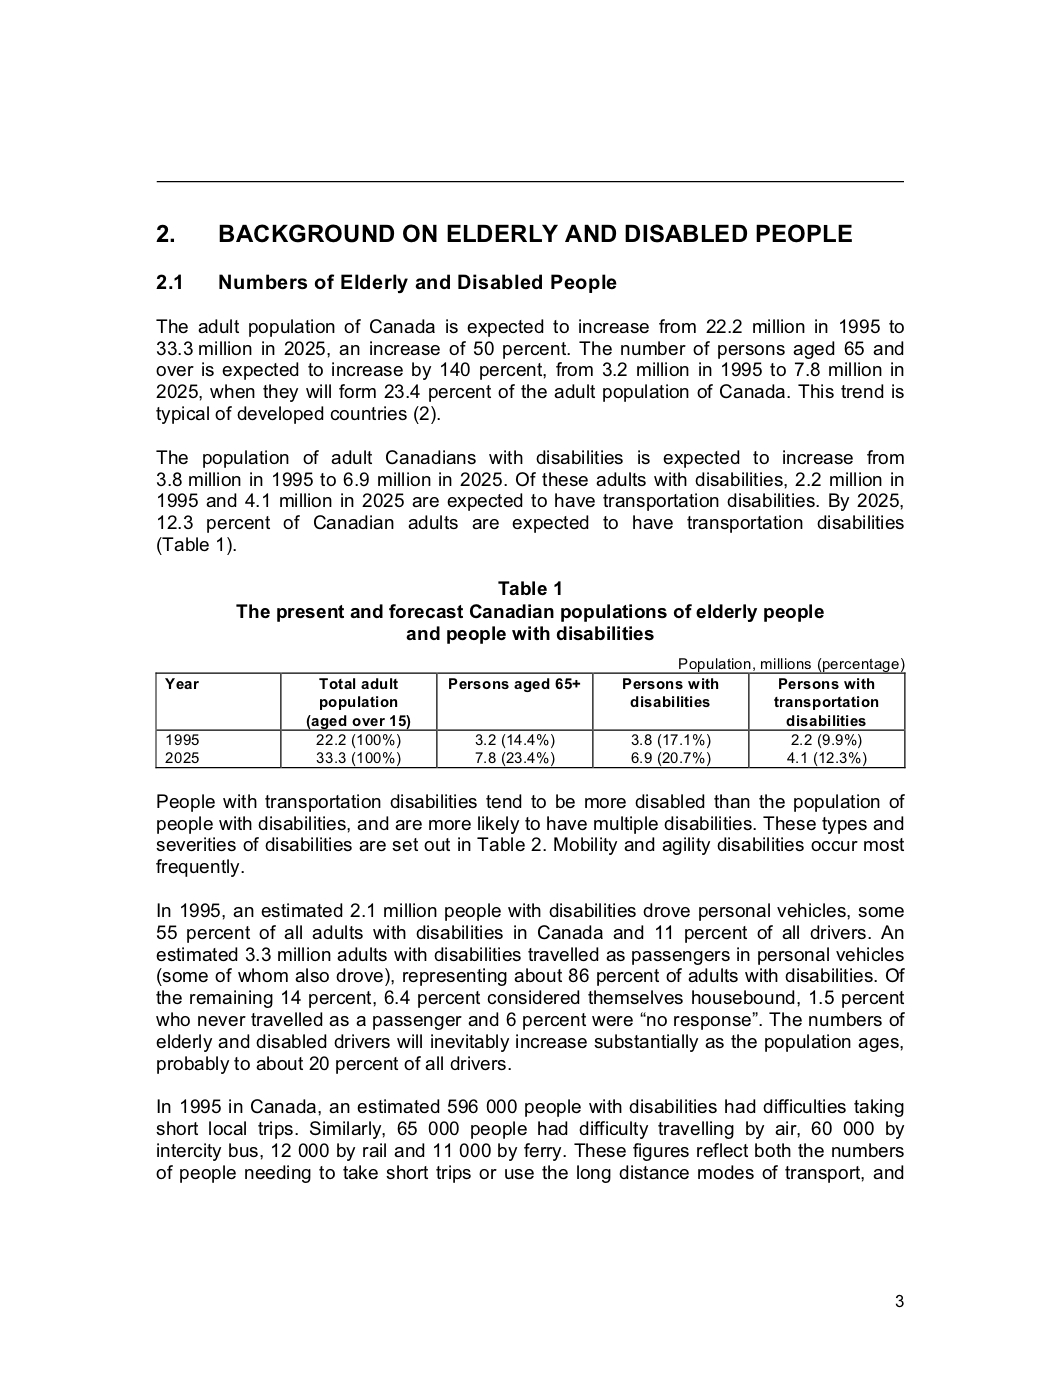Table: (155, 658, 905, 769)
